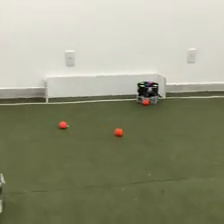ball: (114, 126, 124, 136), (58, 119, 68, 129), (142, 97, 150, 106)
goal: (44, 73, 167, 106)
robot: (136, 80, 159, 105)
